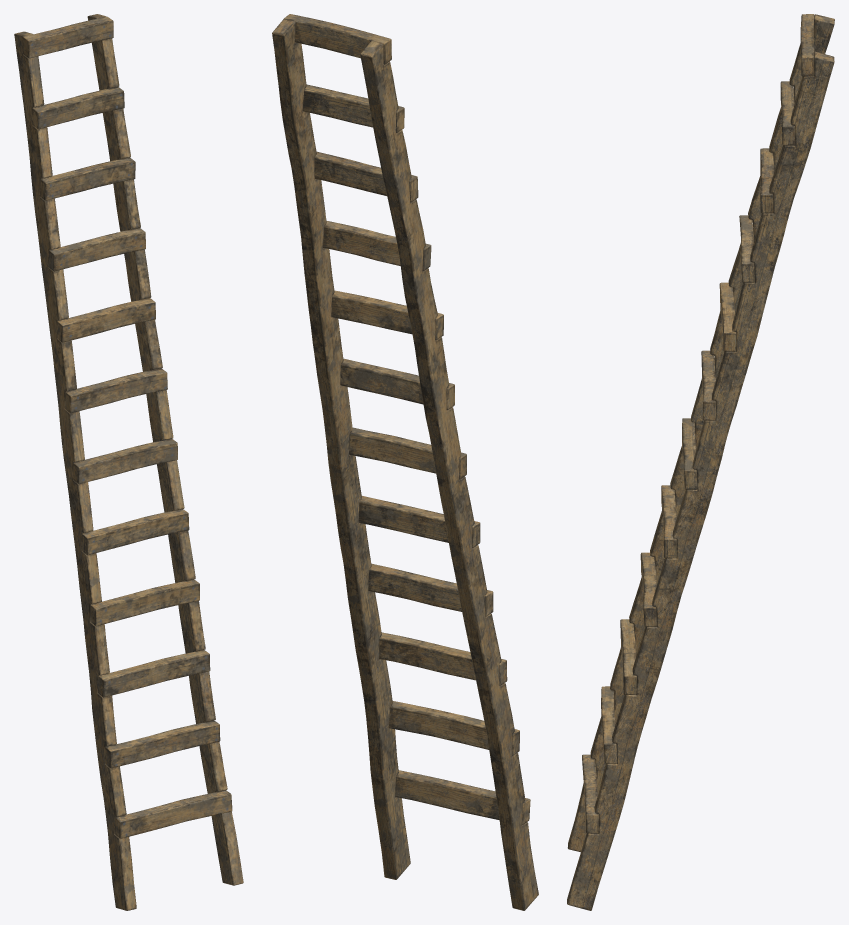
The model's file is Ladder.FBX.
3 renders of one model, left to right at view 1: azimuth 30°, elevation 25°; view 2: azimuth 150°, elevation 25°; view 3: azimuth 270°, elevation 25°, orthographic. The views are drawn at different scales.
Parts seen in each view (by area): view 1: Ladder; view 2: Ladder; view 3: Ladder.
Boxes of the visible parts, x1,y1,x2,y2 form: Ladder: (14,14,243,910); Ladder: (272,14,538,910); Ladder: (567,14,834,910).
Bounding box in the file's own units: 55.92 × 104 × 360.
